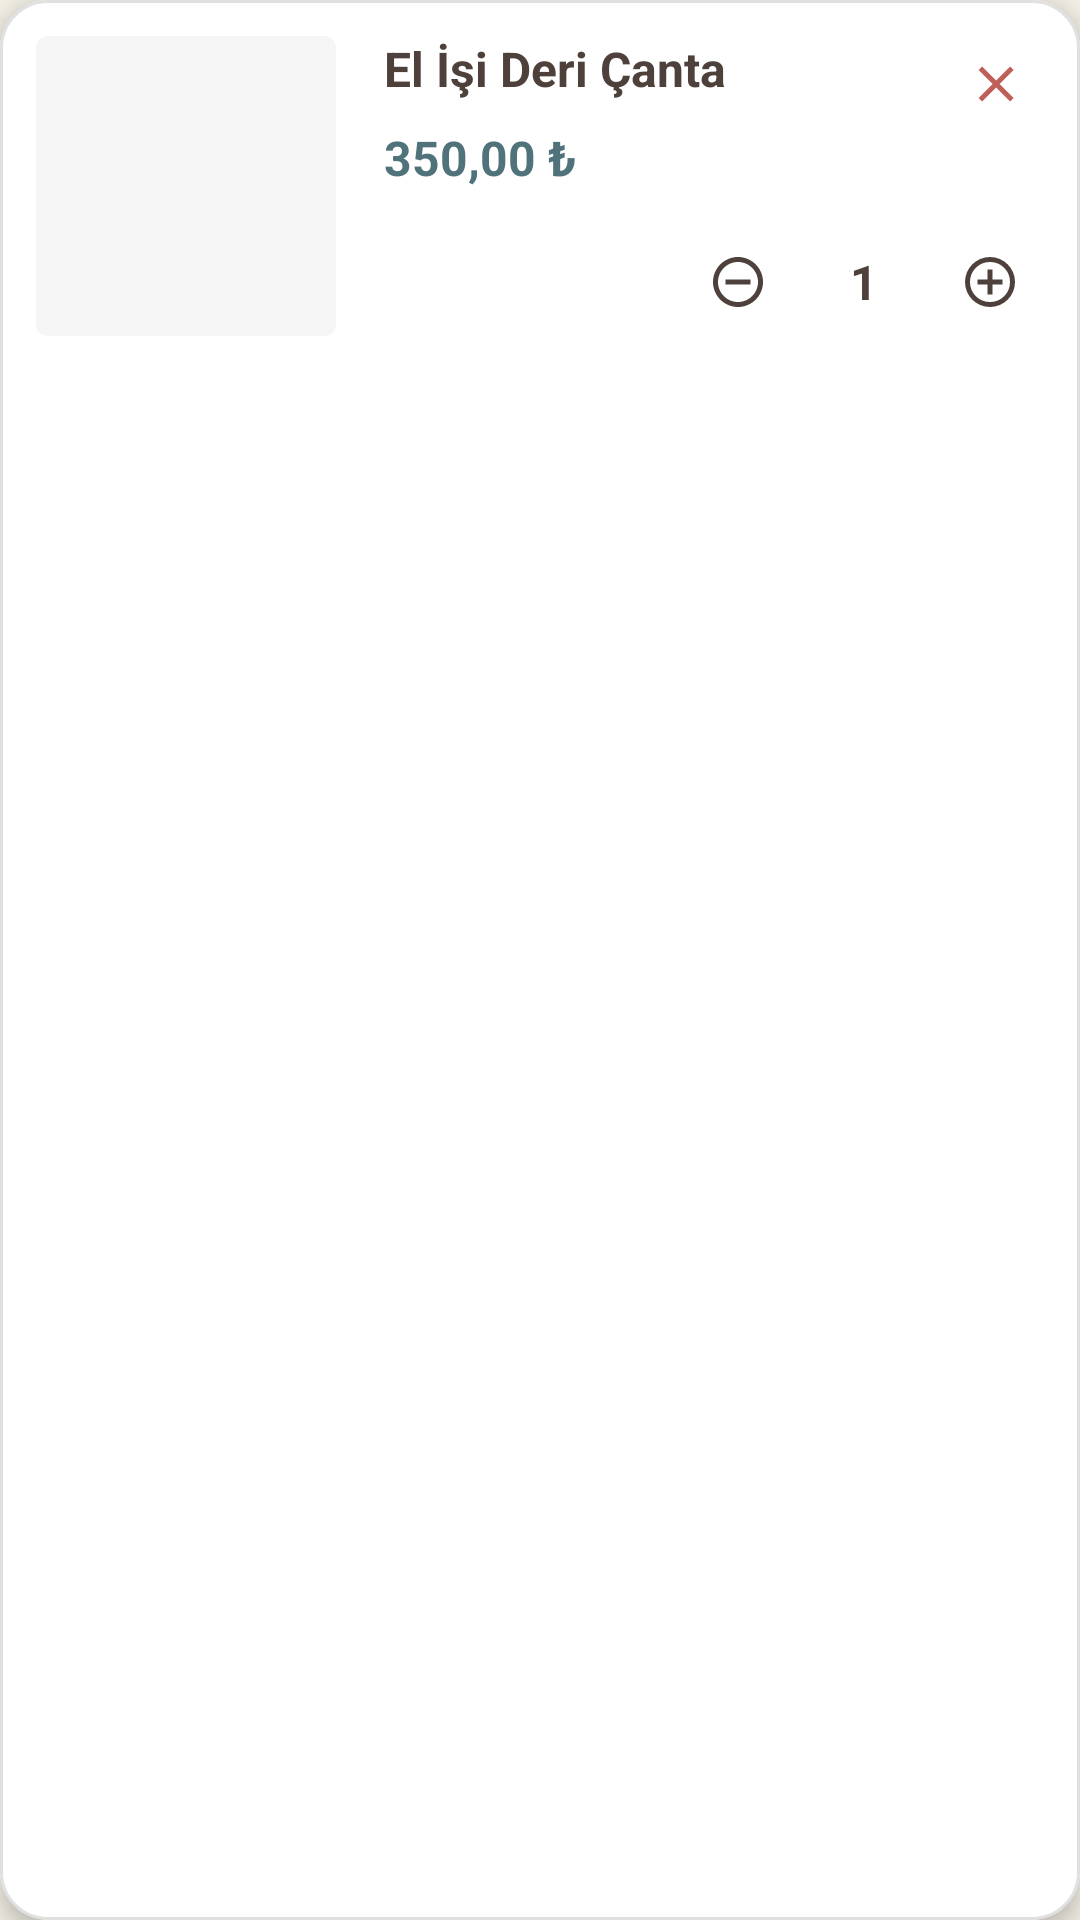

Screen size 1080px×1920px. Icon name, then its box in pixels as (x1, y1, x2, y2):
arti resim: (965, 257, 1015, 307)
close resim: (979, 66, 1014, 102)
eksi resim: (713, 257, 763, 307)
